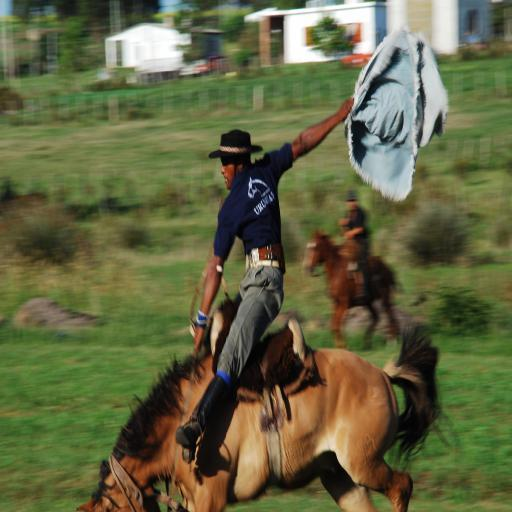horse: (90, 320, 442, 512), (304, 226, 404, 348)
